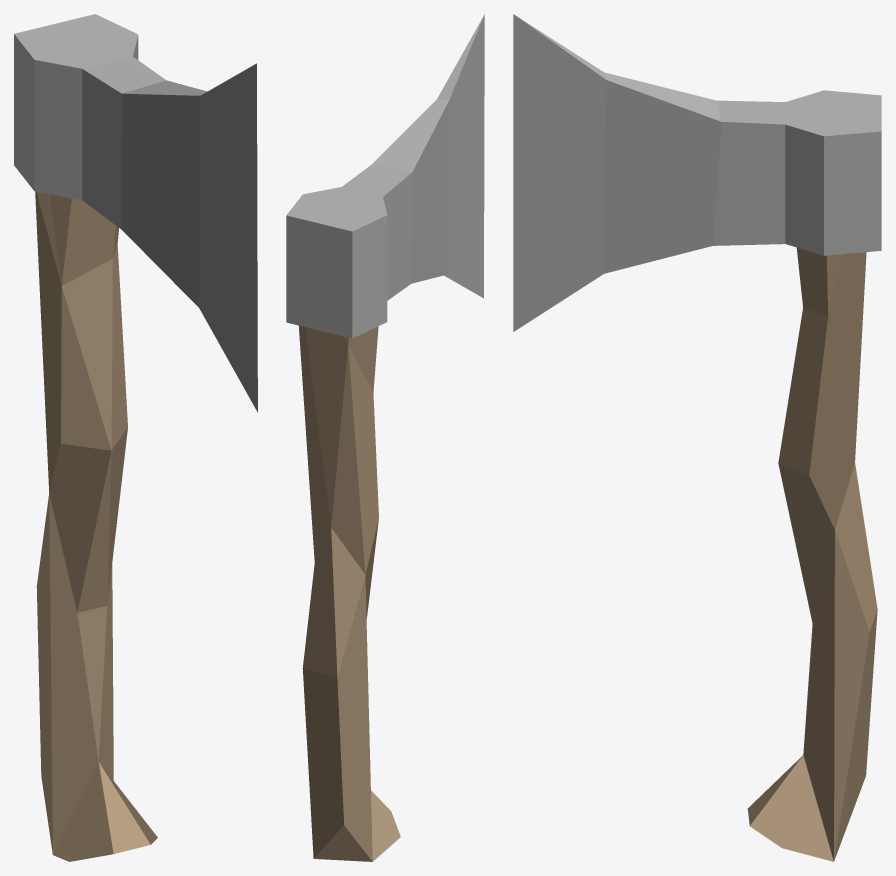
The model's file is IronAxe.glb.
3 views of the same model, side by side, from view 1: azimuth 30°, elevation 25°; view 2: azimuth 150°, elevation 25°; view 3: azimuth 270°, elevation 25° (orthographic). The views are drawn at different scales.
Parts seen in each view (by area): view 1: Cylinder.008, Cube.022; view 2: Cylinder.008, Cube.022; view 3: Cube.022, Cylinder.008.
Part boxes in pixels (left/top/right/bottom): Cylinder.008: left=35, top=191, right=157, bottom=861; Cube.022: left=14, top=14, right=257, bottom=412; Cylinder.008: left=299, top=325, right=400, bottom=861; Cube.022: left=286, top=14, right=484, bottom=338; Cube.022: left=513, top=14, right=881, bottom=331; Cylinder.008: left=747, top=247, right=877, bottom=861.
Size of the model in its own units: 0.1135 by 0.9572 by 0.3835.
